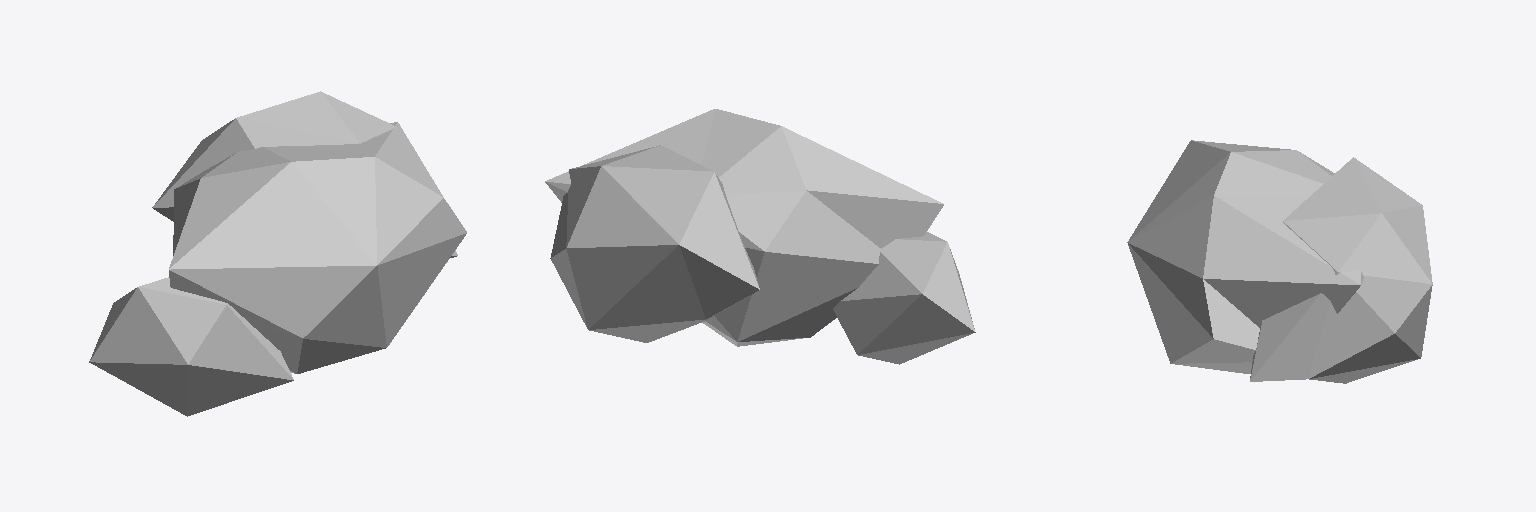
The model's file is clouds2.obj.
3 renders of one model, left to right at view 1: azimuth 30°, elevation 25°; view 2: azimuth 150°, elevation 25°; view 3: azimuth 270°, elevation 25°, orthographic.
Parts seen in each view (by area): view 1: Icosphere, Icosphere.001, Icosphere.002; view 2: Icosphere, Icosphere.002, Icosphere.001; view 3: Icosphere, Icosphere.002.
Part boxes in pixels (bbox=[...]): Icosphere: bbox=[169, 122, 466, 373]; Icosphere.001: bbox=[89, 277, 293, 416]; Icosphere.002: bbox=[152, 91, 457, 257]; Icosphere: bbox=[545, 109, 943, 346]; Icosphere.002: bbox=[550, 145, 759, 342]; Icosphere.001: bbox=[833, 232, 975, 364]; Icosphere: bbox=[1127, 140, 1363, 373]; Icosphere.002: bbox=[1250, 157, 1432, 383].
Bounding box in the file's own units: 3.7 × 2.06 × 2.61.